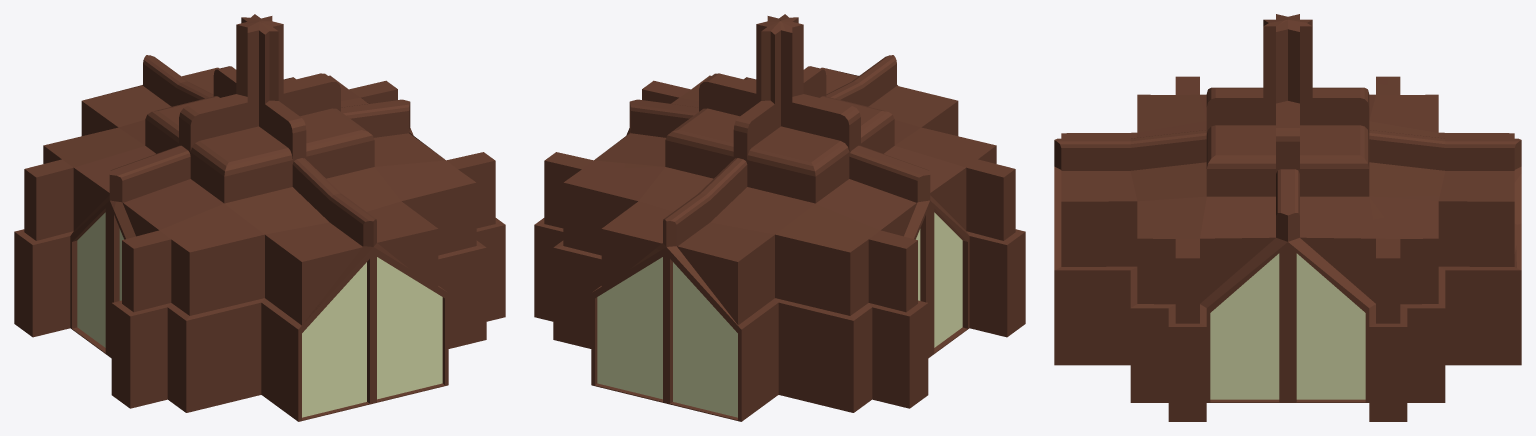
Rendered from Factory.fbx.
3 renders of one model, left to right at view 1: azimuth 30°, elevation 25°; view 2: azimuth 150°, elevation 25°; view 3: azimuth 270°, elevation 25°, orthographic. The views are drawn at different scales.
Visible parts, largest first — view 1: Factory, Cube_cell.092, Cube_cell.050, Cube_cell.025, Cube_cell.047, Cube_cell.038, Cube_cell.103, Cube_cell.068, Cube_cell.093, Cube_cell.004, Cube_cell.044, Cube_cell.110 (+32 smaller); view 2: Factory, Cube_cell.035, Cube_cell.037, Cube_cell.014, Cube_cell.064, Cube_cell.097, Cube_cell.052, Cube_cell.050, Cube_cell.098, Cube_cell.082, Cube_cell.091, Cube_cell.025 (+13 smaller); view 3: Factory, Cube_cell.088, Cube_cell.039, Cube_cell.023, Cube_cell.080, Cube_cell.014, Cube_cell.048, Cube_cell.041, Cube_cell.047, Cube_cell.040, Cube_cell.095, Cube_cell.043 (+14 smaller).
Boxes of the visible parts, box(x1,y1,x2,y2) form: Factory: box(14, 17, 505, 421); Cube_cell.092: box(199, 234, 286, 381); Cube_cell.050: box(122, 206, 246, 303); Cube_cell.025: box(111, 352, 223, 412); Cube_cell.047: box(408, 160, 495, 267); Cube_cell.038: box(23, 168, 54, 290); Cube_cell.103: box(111, 264, 162, 376); Cube_cell.068: box(333, 326, 404, 411); Cube_cell.093: box(149, 129, 236, 207); Cube_cell.004: box(232, 153, 310, 201); Cube_cell.044: box(114, 160, 187, 219); Cube_cell.110: box(302, 291, 340, 374); Factory: box(534, 14, 1025, 421); Cube_cell.035: box(666, 250, 774, 408); Cube_cell.037: box(591, 341, 741, 421); Cube_cell.014: box(591, 276, 685, 361); Cube_cell.064: box(826, 240, 918, 368); Cube_cell.097: box(689, 178, 794, 293); Cube_cell.052: box(778, 351, 890, 412); Cube_cell.050: box(897, 133, 1015, 199); Cube_cell.098: box(596, 340, 638, 393); Cube_cell.082: box(891, 349, 928, 408); Cube_cell.091: box(816, 179, 885, 218); Cube_cell.025: box(946, 282, 1025, 340); Factory: box(1054, 14, 1521, 421); Cube_cell.088: box(1130, 323, 1346, 402); Cube_cell.039: box(1054, 314, 1130, 365); Cube_cell.023: box(1445, 316, 1518, 365); Cube_cell.080: box(1406, 134, 1481, 208); Cube_cell.014: box(1445, 274, 1514, 319); Cube_cell.048: box(1206, 163, 1284, 197); Cube_cell.041: box(1334, 176, 1456, 231); Cube_cell.047: box(1130, 234, 1217, 294); Cube_cell.040: box(1369, 258, 1400, 335); Cube_cell.095: box(1168, 130, 1206, 184); Cube_cell.043: box(1096, 159, 1175, 243).
Bounding box in the file's own units: 1300 × 990 × 1362.
